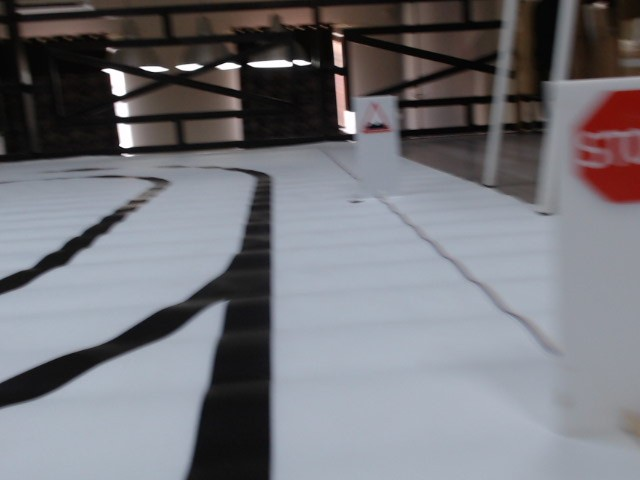Nerov: (359, 100, 394, 136)
